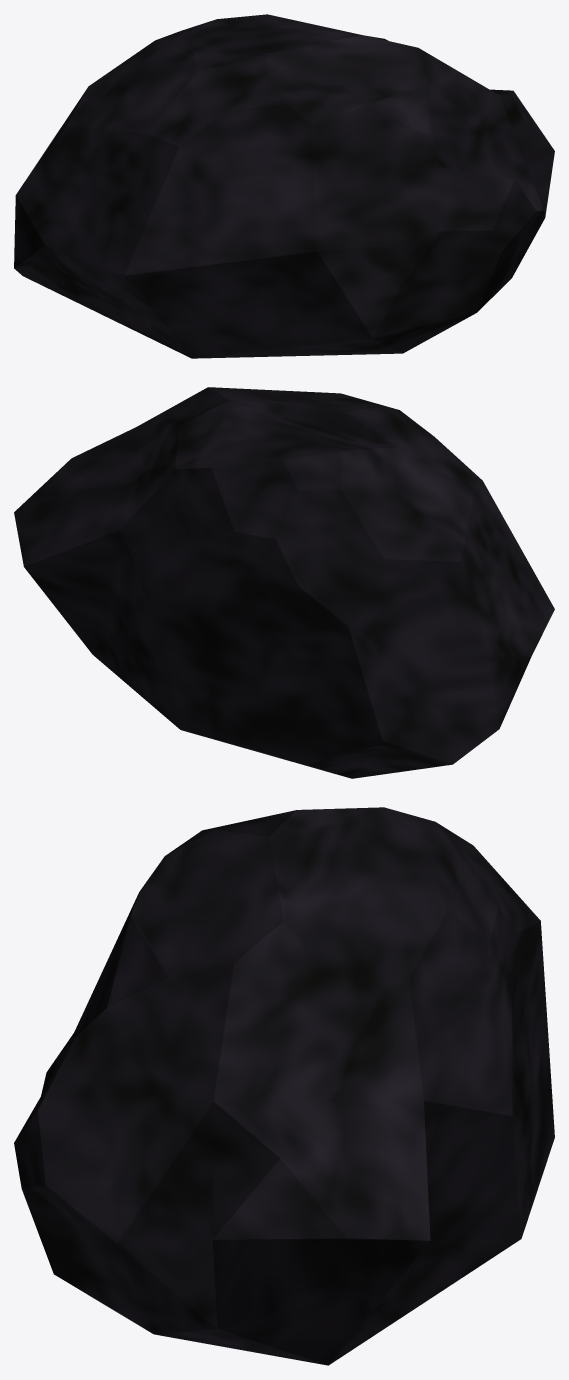
File: coal.fbx
The picture shows the model from 3 angles, top to bottom: view 1: azimuth 30°, elevation 25°; view 2: azimuth 150°, elevation 25°; view 3: azimuth 270°, elevation 25°; orthographic projection. The views are drawn at different scales.
Parts seen in each view (by area): view 1: coal; view 2: coal; view 3: coal.
Part boxes in pixels (left/top/right/bottom): coal: left=14, top=14, right=554, bottom=358; coal: left=14, top=387, right=554, bottom=778; coal: left=14, top=807, right=554, bottom=1365.
Size of the model in its own units: 22.84 by 13.39 by 15.5.
